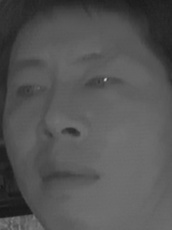eye: (85, 69, 126, 98), (15, 80, 47, 103)
mouth: (38, 155, 101, 195)
